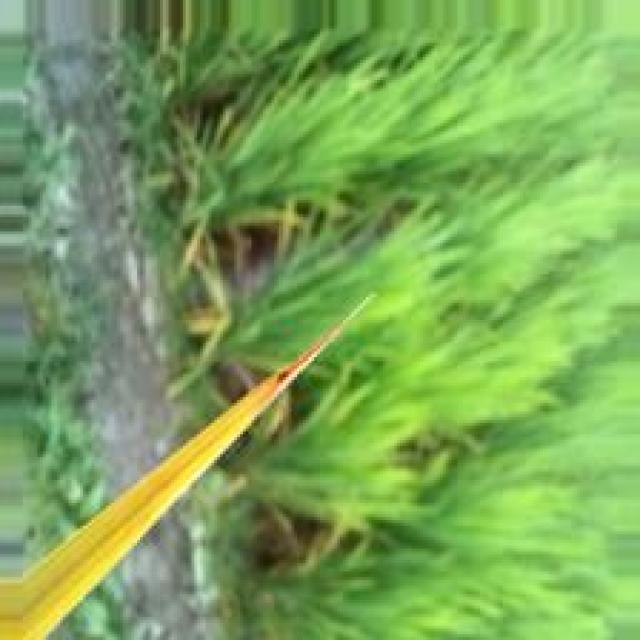Rice False Smut: (250, 296, 371, 410)
